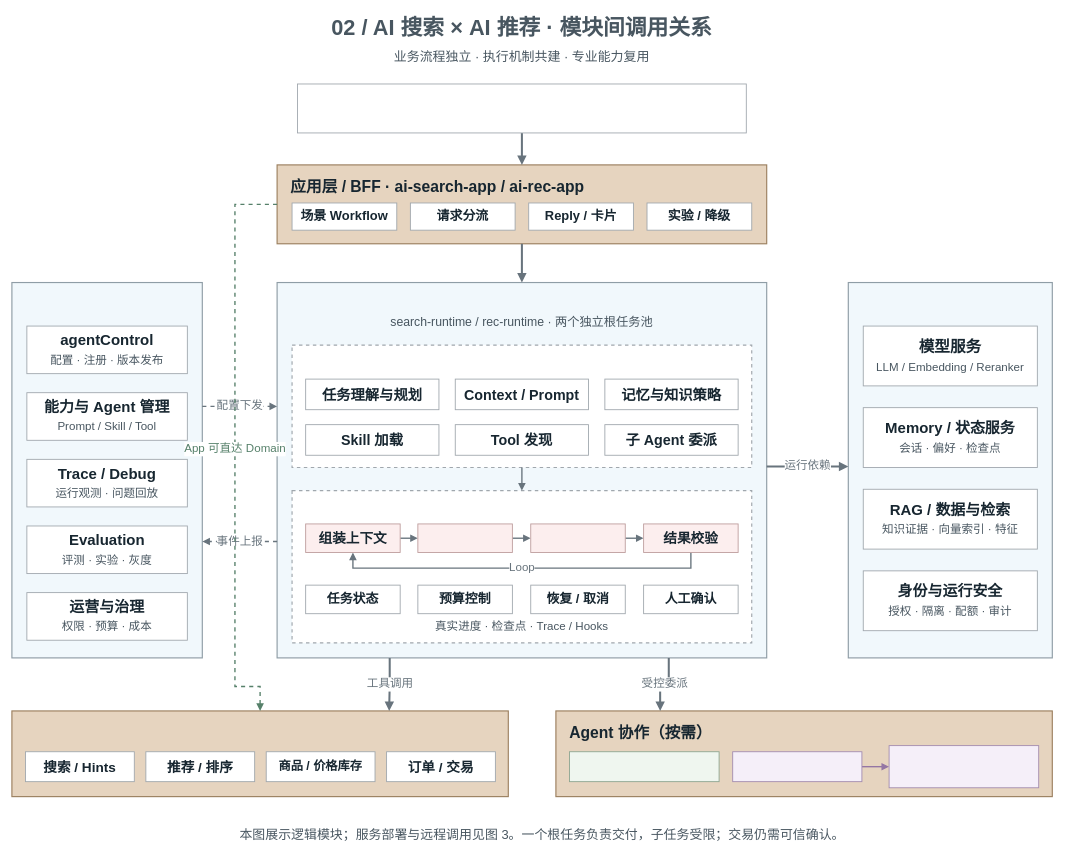
This 1065x862 diagram has some shape labels left out. Each missing label, with the box of its shape:
Agent Gateway: (732, 751, 862, 782)
Agent Harness: (276, 282, 767, 658)
Agent 基础设施: (847, 282, 1053, 658)
Agent 工程平台: (11, 282, 203, 658)
LLM 推理: (417, 523, 513, 553)
业务能力 / Tool Adapter → Domain: (11, 710, 509, 797)
内部专业子 Agent: (569, 751, 719, 782)
动作执行: (530, 523, 625, 553)
外部 Agent 其他部门 / 合作方: (888, 745, 1039, 788)
执行运行 / Runtime: (291, 490, 752, 643)
用户 / APP / Web 搜索入口 · 推荐流 · 商品详情 · 对话: (297, 83, 746, 133)
行为控制: (291, 344, 752, 468)
